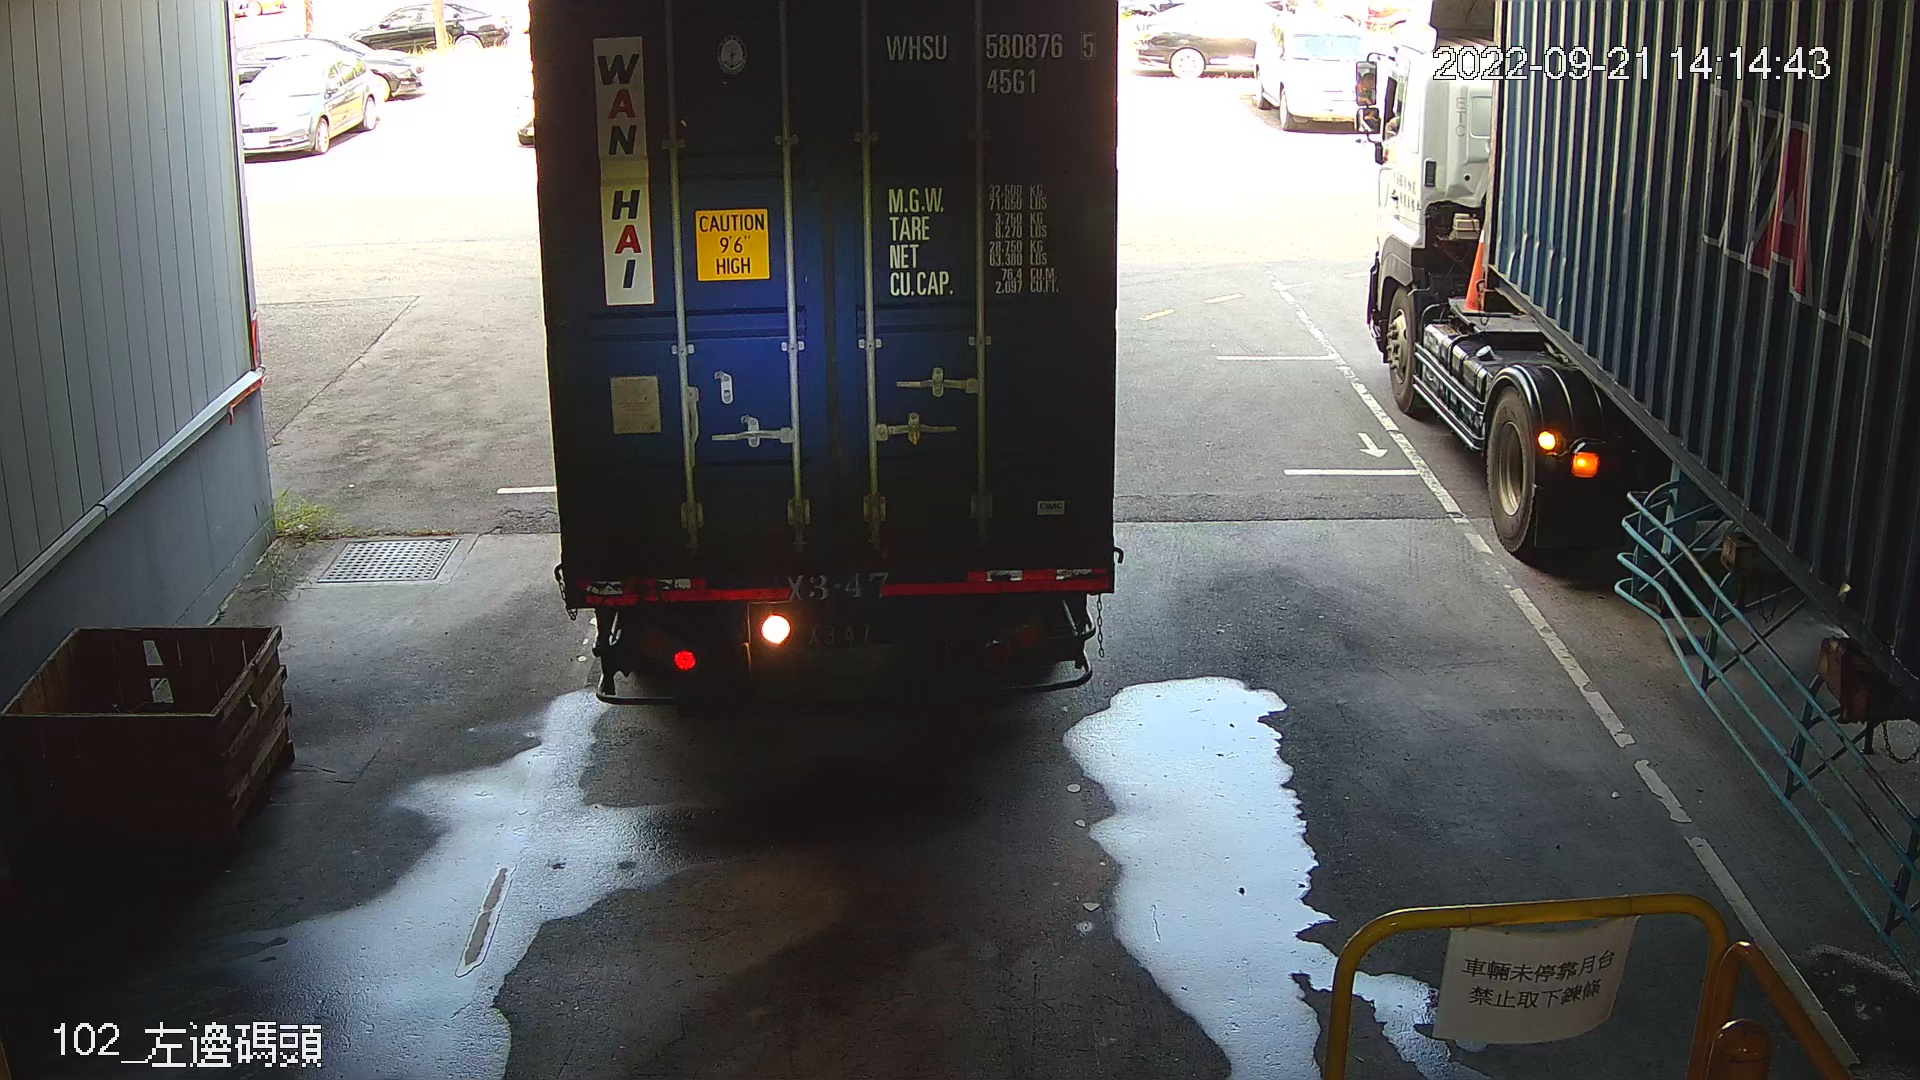container: (988, 152, 1116, 211)
